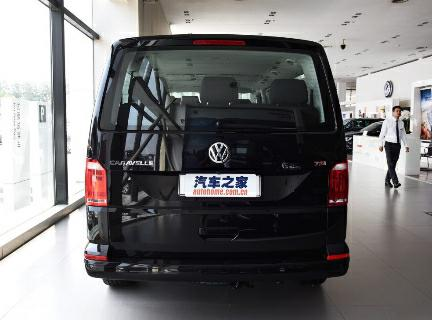大众-凯路威: (82, 32, 358, 289)
